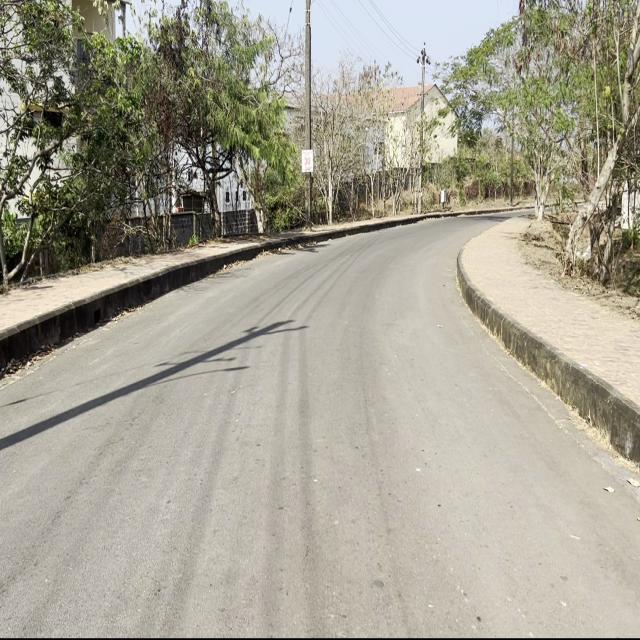Road: (2, 225, 638, 634)
